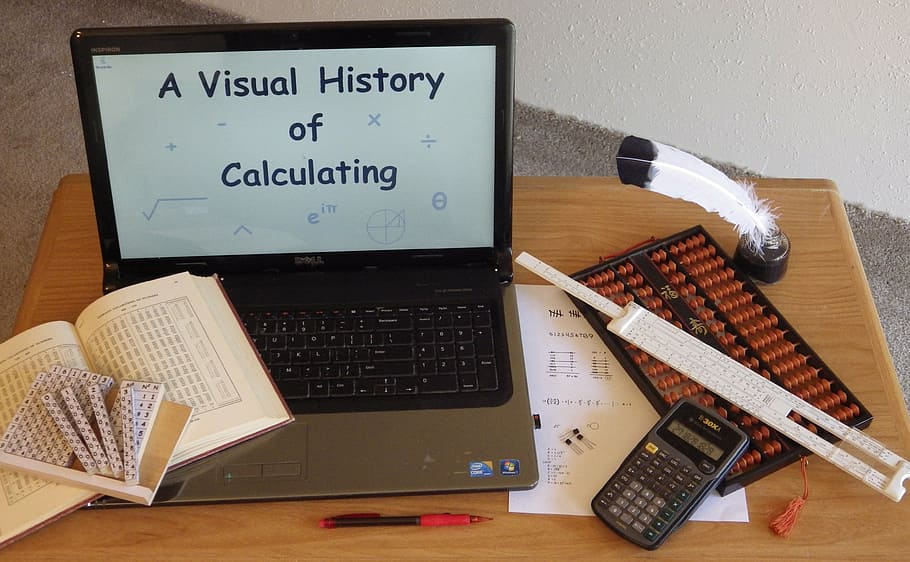Calculator: (590, 396, 749, 552)
